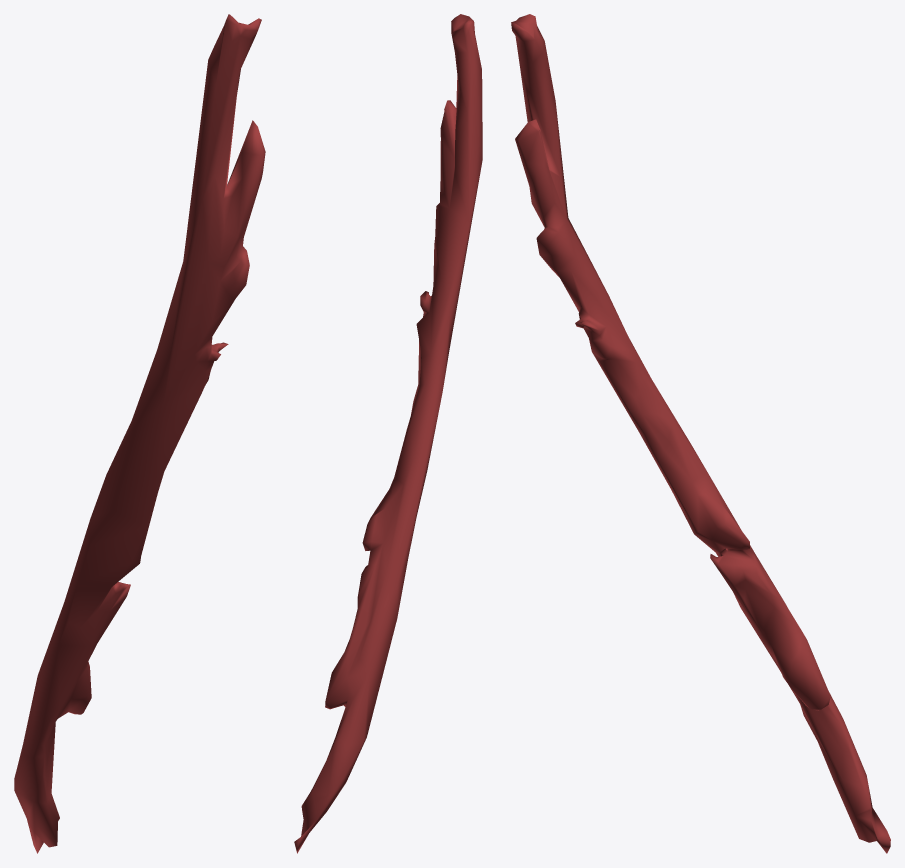
The model's file is spinalis-colli-muscle-r.glb.
3 views of the same model, side by side, from view 1: azimuth 30°, elevation 25°; view 2: azimuth 150°, elevation 25°; view 3: azimuth 270°, elevation 25° (orthographic). The views are drawn at different scales.
Parts seen in each view (by area): view 1: Spinalis colli muscle.r; view 2: Spinalis colli muscle.r; view 3: Spinalis colli muscle.r.
Boxes of the visible parts, <box> form: Spinalis colli muscle.r: <box>14,14,265,853</box>; Spinalis colli muscle.r: <box>294,14,482,853</box>; Spinalis colli muscle.r: <box>511,14,890,853</box>.
Bounding box in the file's own units: 0.00791 × 0.1058 × 0.0438.
